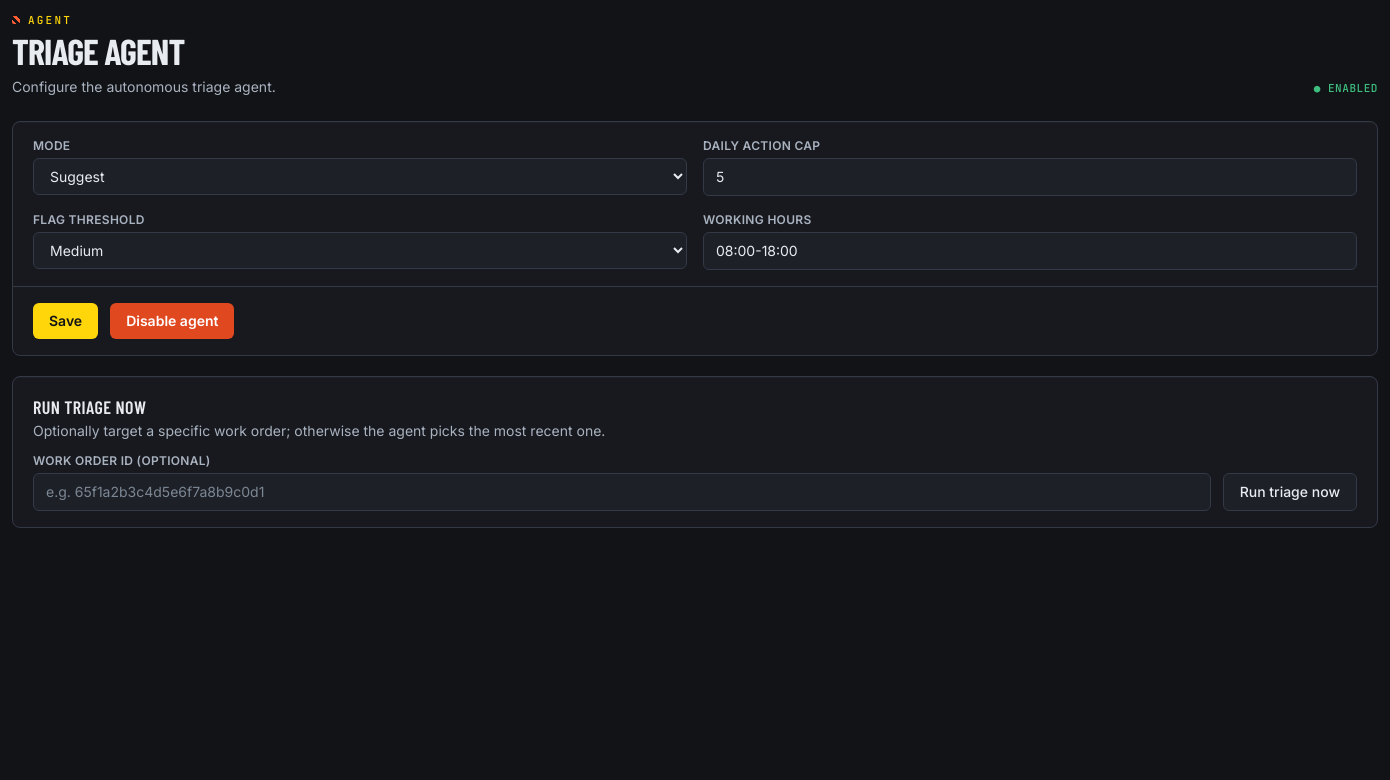
Scenario: AgentSettingsPage › saves the updated config via PATCH
The width and height of the screenshot is (1390, 780).
Check: the field showing "08:00-18:00" is shown, box [703,232,1357,270]
Step 1. Select "Auto-apply" in the dropdown labelled "Mode" → (360, 176), box [33,158,687,194]
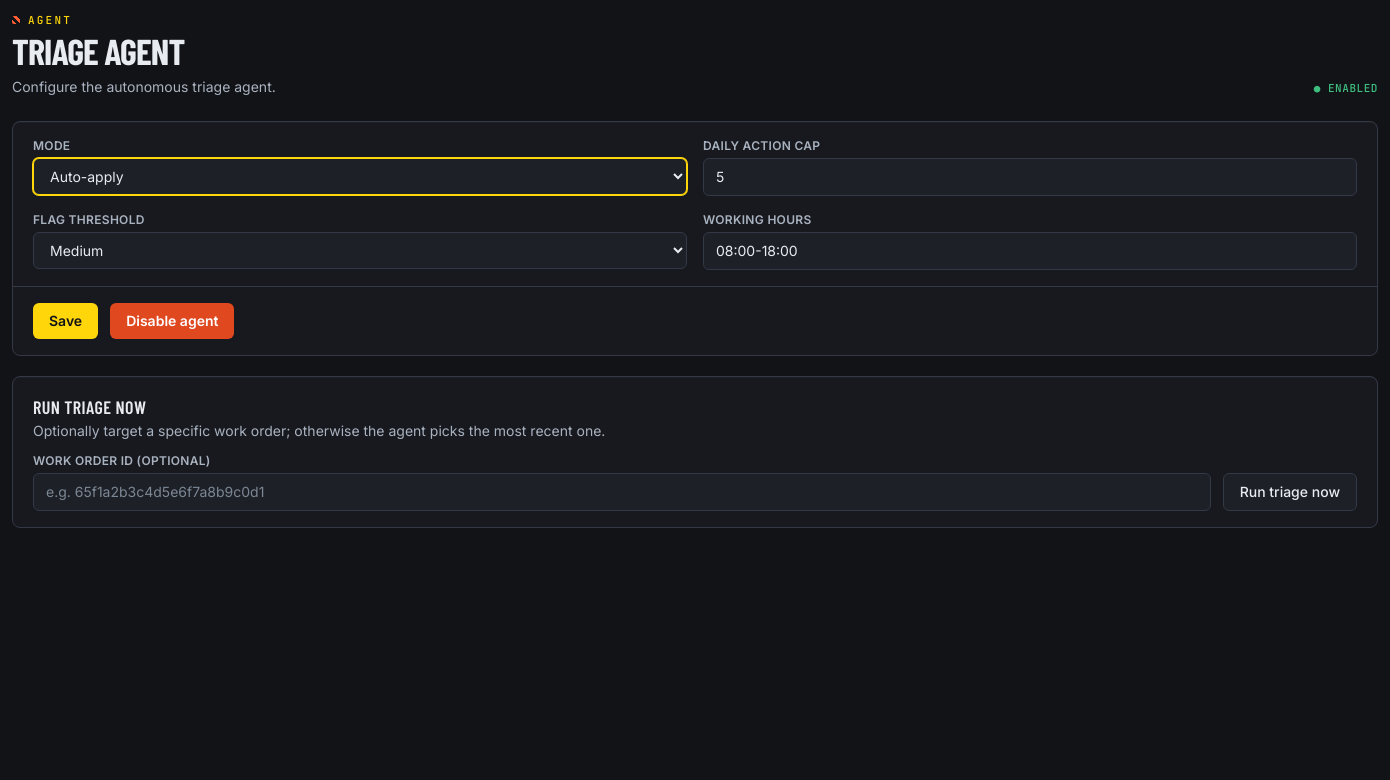
Step 2. Click the button "Save" → (66, 320), box [33,302,98,338]
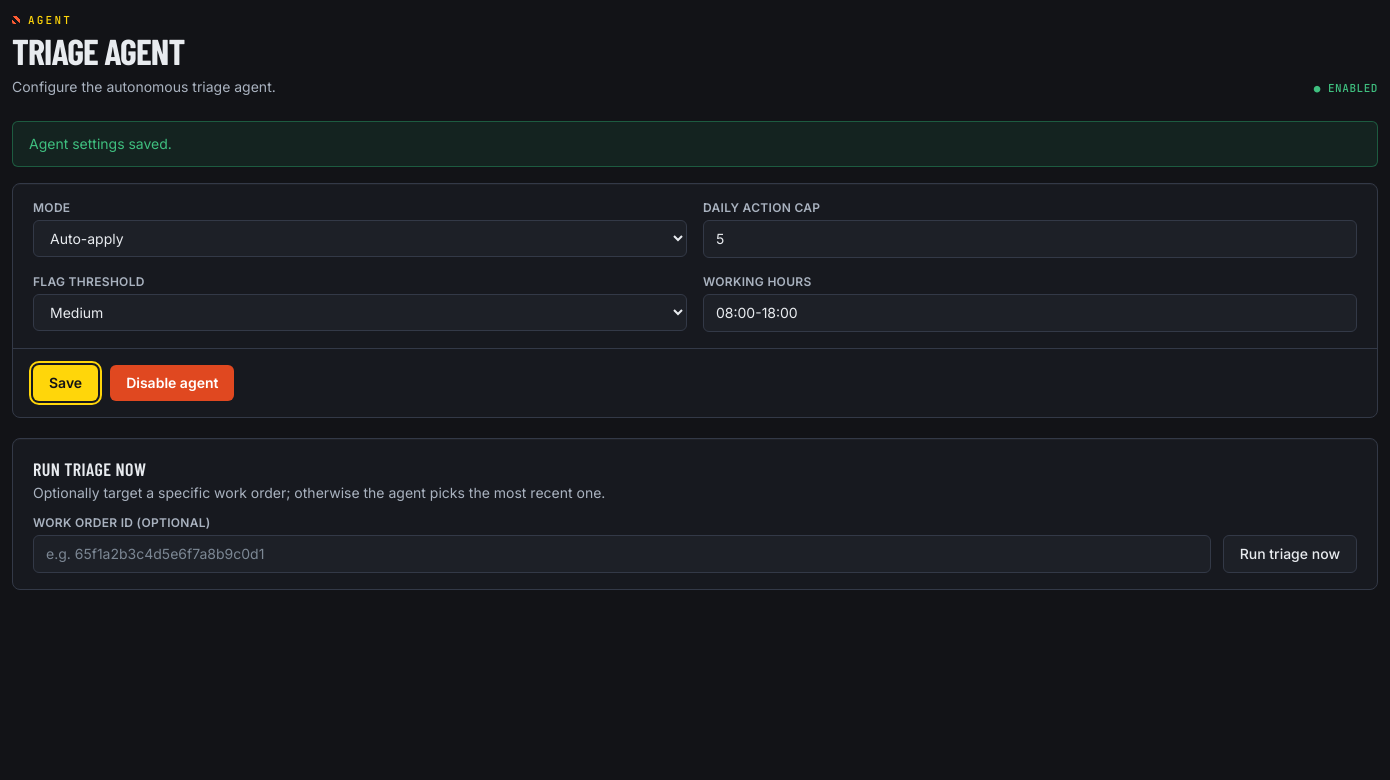
Check: the text "Agent settings saved." is shown, box [12,120,1378,166]
